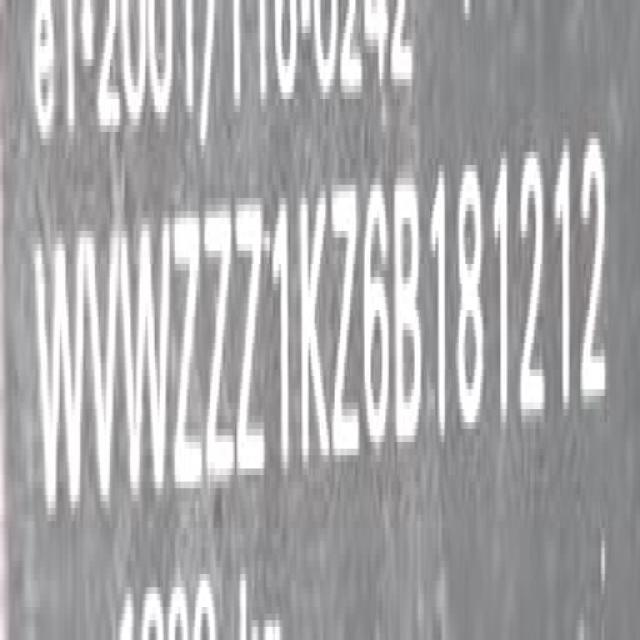1: (270, 187, 293, 489), (490, 146, 512, 436), (429, 162, 449, 444), (555, 134, 574, 426)
2: (582, 132, 612, 415), (520, 143, 548, 434)
6: (365, 173, 393, 462)
8: (455, 158, 482, 440)
B: (395, 171, 424, 457)
K: (299, 181, 329, 486)
V: (83, 220, 120, 516)
W: (120, 215, 172, 511), (34, 232, 82, 528)
Z: (235, 190, 266, 494), (206, 197, 236, 495), (176, 203, 204, 504), (332, 175, 358, 474)
